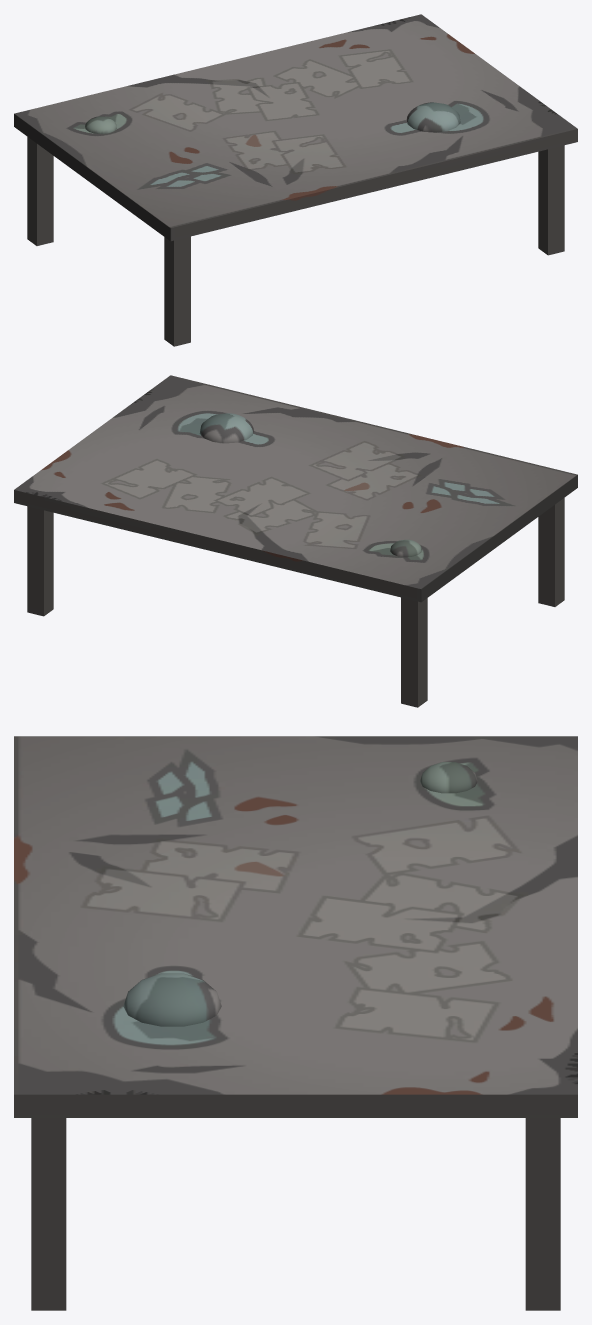
File: Building_AncientSimpleResearchBench.obj
3 views of the same model, one above another, from view 1: azimuth 30°, elevation 25°; view 2: azimuth 150°, elevation 25°; view 3: azimuth 270°, elevation 25° (orthographic). The views are drawn at different scales.
Visible parts, largest first — view 1: Body; view 2: Body; view 3: Body.
Boxes of the visible parts, left/top/right/bottom form: Body: left=14, top=14, right=577, bottom=346; Body: left=14, top=375, right=577, bottom=707; Body: left=14, top=736, right=577, bottom=1310.
Bounding box in the file's own units: 2.92 × 0.9494 × 1.95.
Materials: 1 (1 with a texture image).
